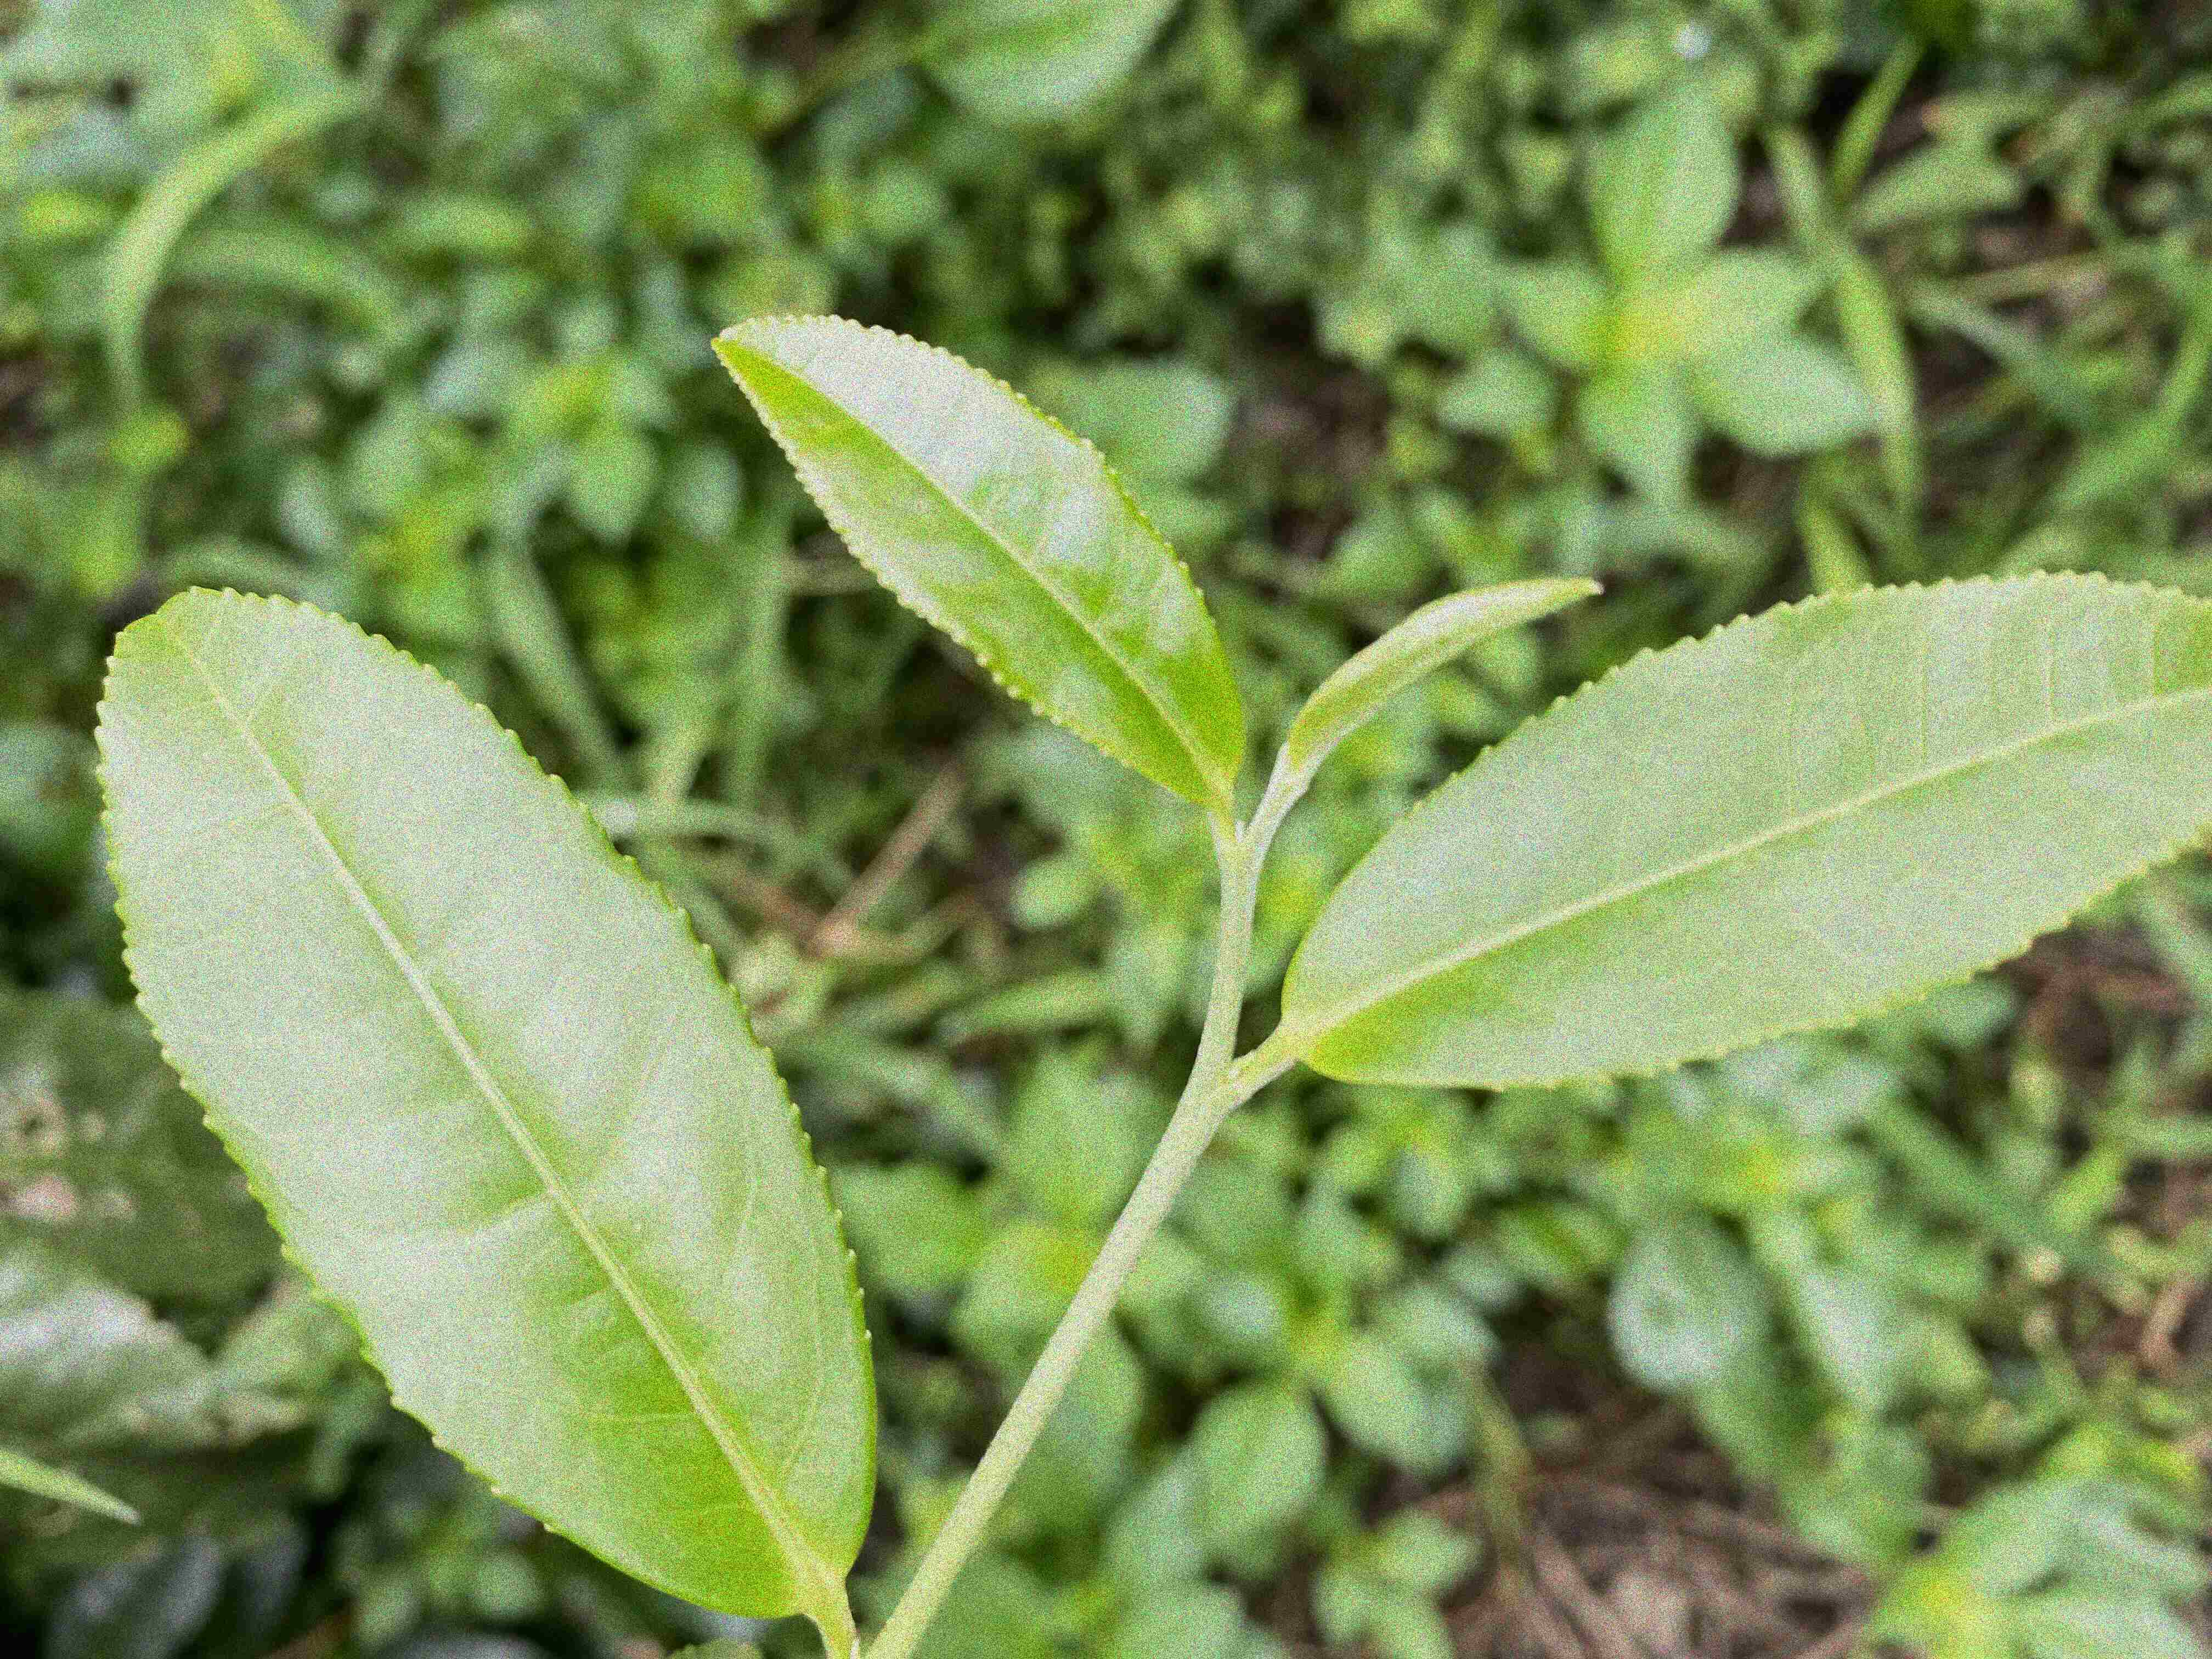healthy: (91, 584, 881, 1621), (1282, 566, 2210, 1091), (711, 312, 1249, 802)
